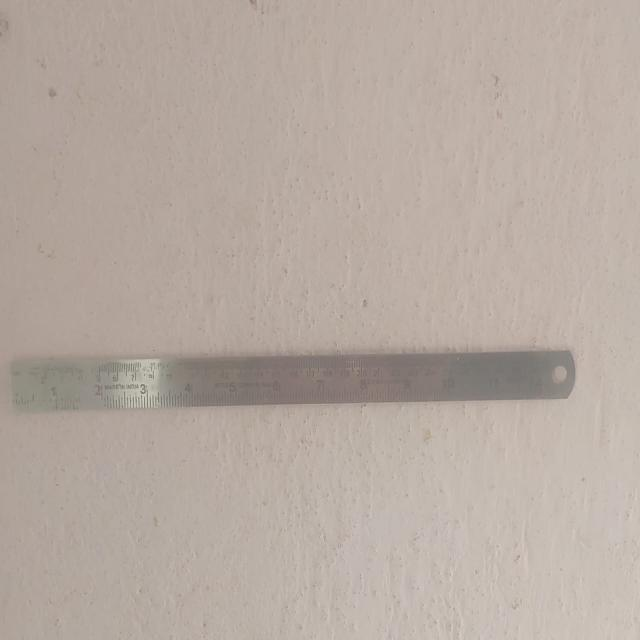scale: (12, 352, 579, 416)
